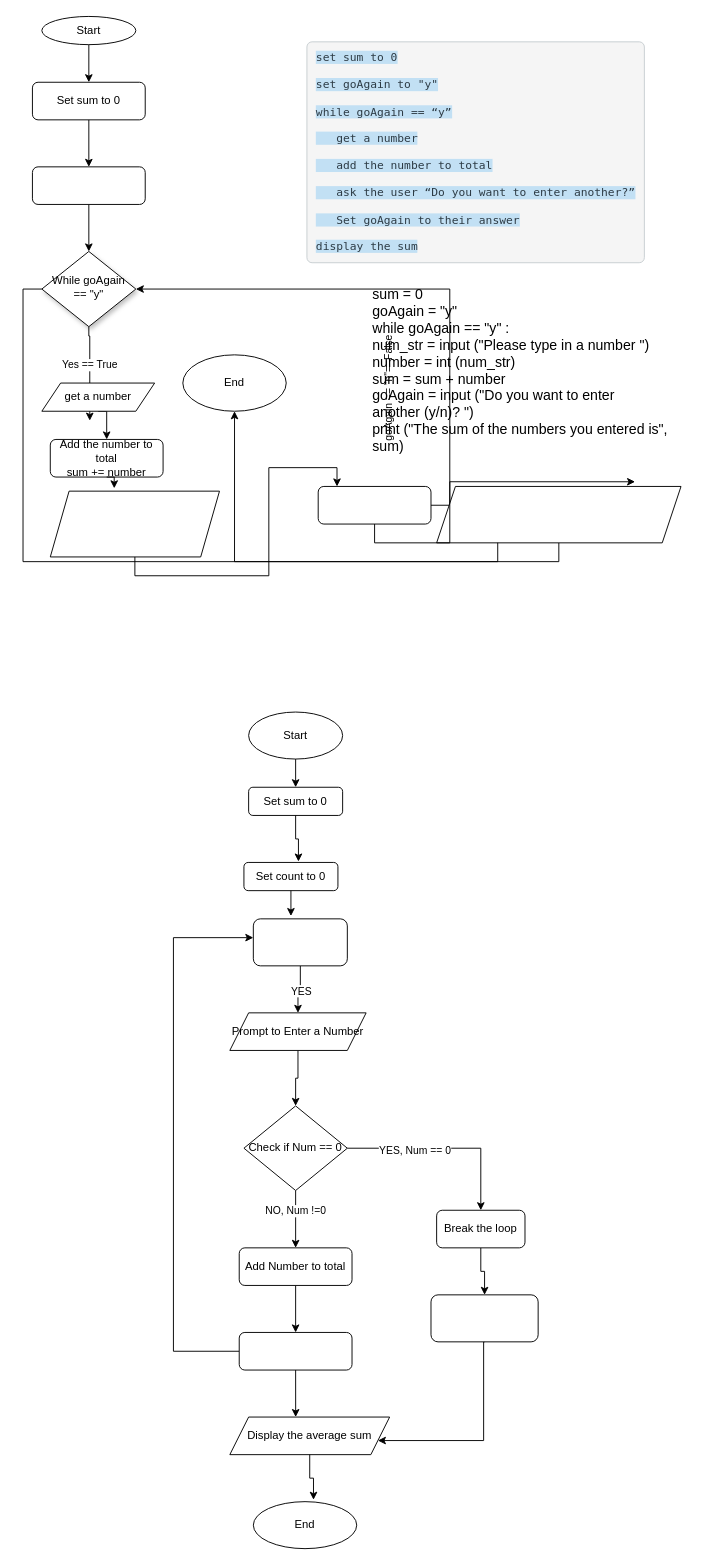
Some shapes in this 707 by 1565 pixel diagram are drawn without their labels. Each missing label, with the centre of its shape:
Display the calculated sum: [558,514]
Increment count by 1: [295,1351]
Loop beginning: [299,942]
Set Calculate the average sum: [484,1318]
Set goAgain to "y": [88,185]
Set goAgain to their answer: [374,505]
Write: "enter another?: [134,523]
